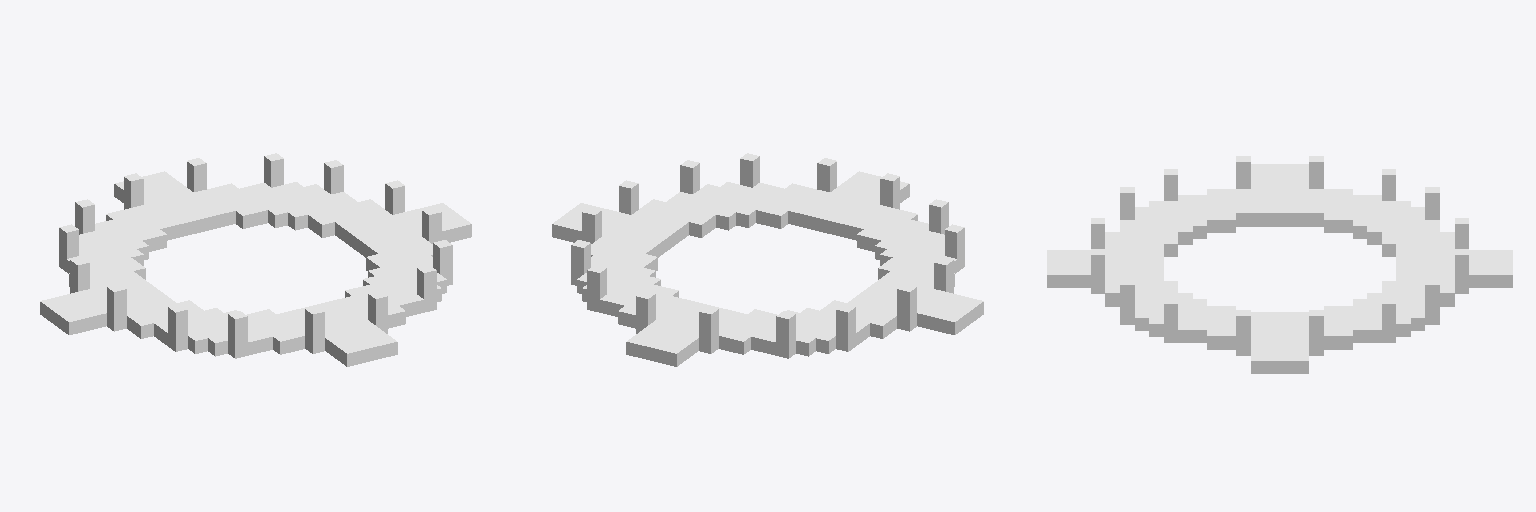
File: crossroad7.obj
The picture shows the model from 3 angles: view 1: azimuth 30°, elevation 25°; view 2: azimuth 150°, elevation 25°; view 3: azimuth 270°, elevation 25°; orthographic projection.
Visible parts, largest first — view 1: object 1; view 2: object 1; view 3: object 1.
Boxes of the visible parts, x1,y1,x2,y2 form: object 1: [40, 153, 471, 366]; object 1: [552, 153, 983, 366]; object 1: [1047, 156, 1512, 373].
Size of the model in its own units: 3.2 by 0.3 by 3.2.